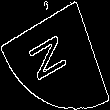N_NE: (31, 26, 79, 84)
